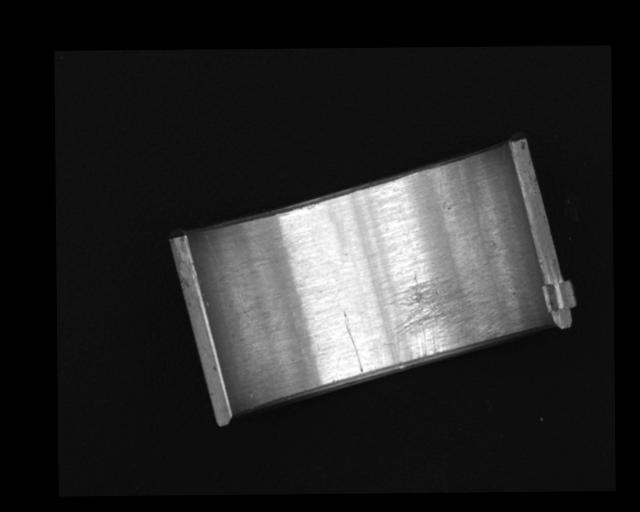nick: (205, 230, 249, 318), (342, 311, 363, 372)
scratch: (392, 272, 502, 364)
